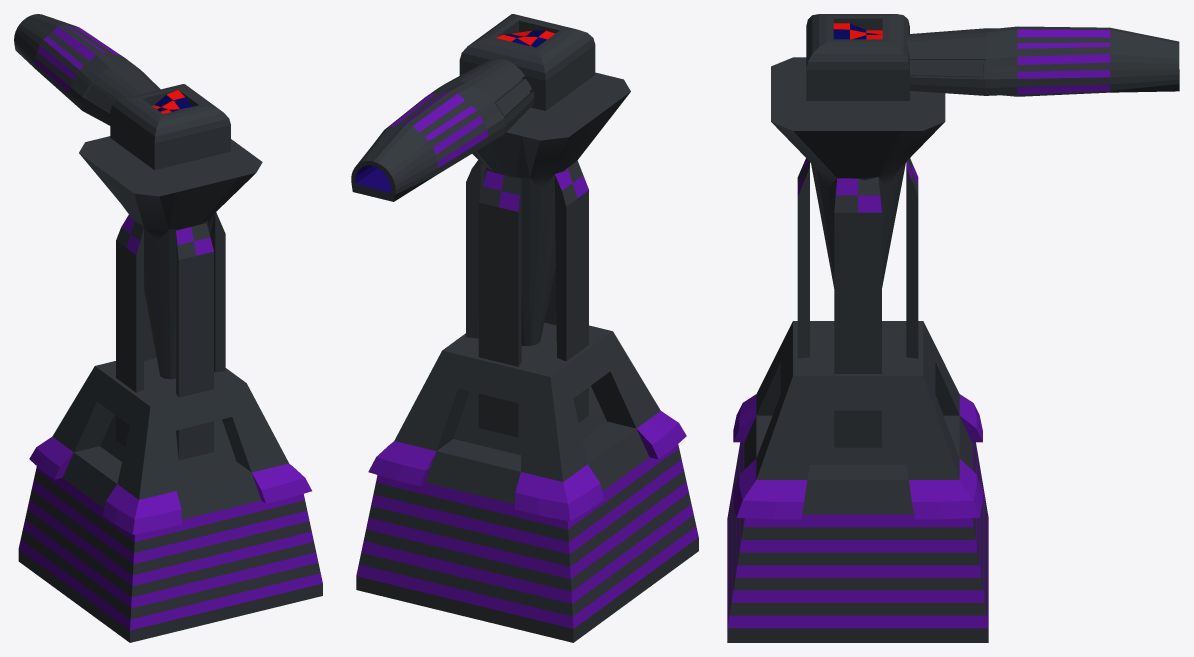
File: Spiral Turret.fbx
The picture shows the model from 3 angles, left to right: view 1: azimuth 30°, elevation 25°; view 2: azimuth 150°, elevation 25°; view 3: azimuth 270°, elevation 25°; orthographic projection. The views are drawn at different scales.
Parts seen in each view (by area): view 1: Pedastal, Gun; view 2: Pedastal, Gun; view 3: Pedastal, Gun.
Part boxes in pixels (left/top/right/bottom): Pedastal: left=18, top=136, right=322, bottom=642; Gun: left=14, top=14, right=230, bottom=170; Pedastal: left=356, top=72, right=698, bottom=642; Gun: left=351, top=14, right=595, bottom=201; Pedastal: left=727, top=57, right=988, bottom=642; Gun: left=806, top=14, right=1179, bottom=100.
Bounding box in the file's own units: 600 × 1416 × 1038.
